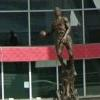Statue: (37, 2, 80, 86)
